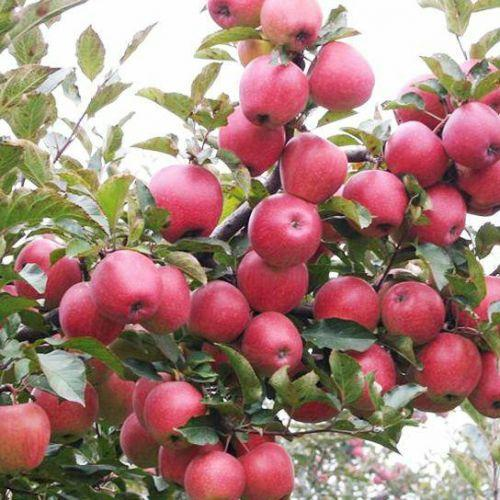apple: (248, 192, 324, 270), (146, 162, 220, 239), (90, 248, 162, 327), (237, 54, 308, 126), (280, 131, 348, 204), (220, 104, 286, 178), (237, 248, 310, 314), (418, 330, 483, 404), (306, 42, 375, 111), (27, 377, 98, 443), (382, 120, 447, 191), (144, 382, 209, 449), (238, 310, 304, 375), (57, 280, 122, 346), (381, 281, 446, 347), (345, 168, 407, 237), (188, 279, 249, 345), (443, 100, 500, 170), (1, 399, 50, 472), (314, 276, 380, 330), (139, 264, 189, 334), (411, 186, 468, 245), (258, 1, 323, 51), (182, 448, 245, 499), (238, 443, 292, 500), (468, 348, 499, 417), (204, 1, 260, 32)
